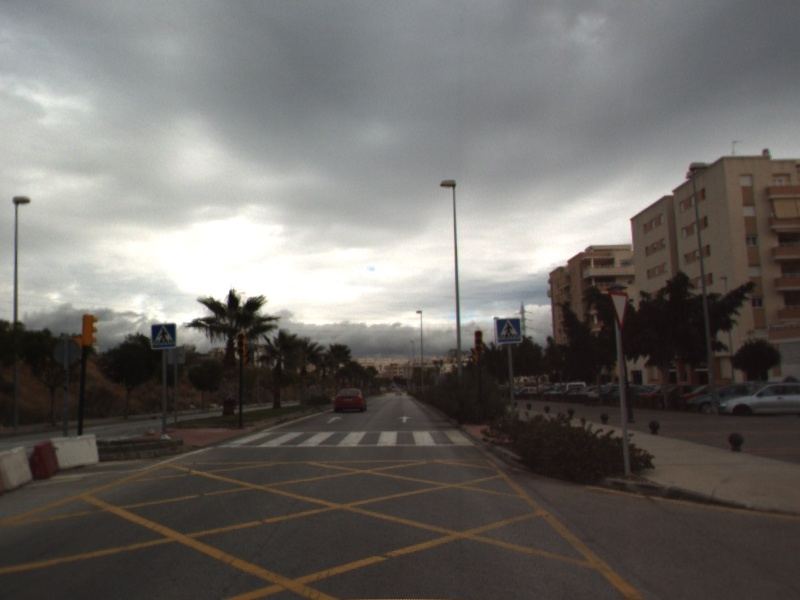STRAIGHT: (324, 414, 344, 425), (397, 414, 412, 424)
